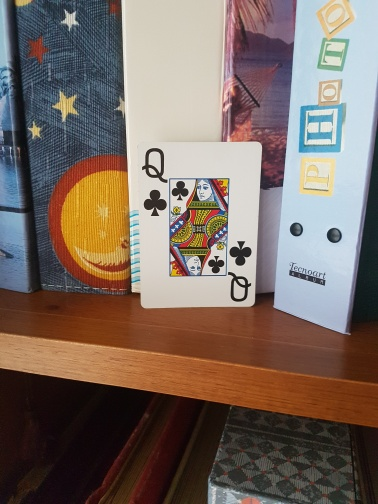queen: (140, 141, 264, 308)
